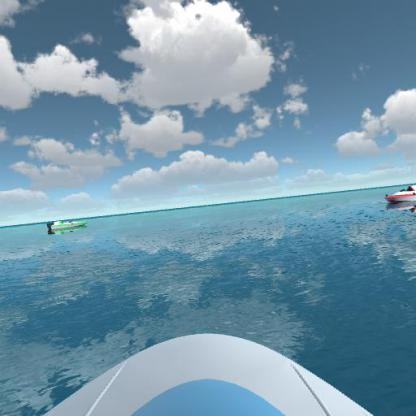usv0: (44, 214, 94, 236)
usv3: (381, 180, 416, 206)
